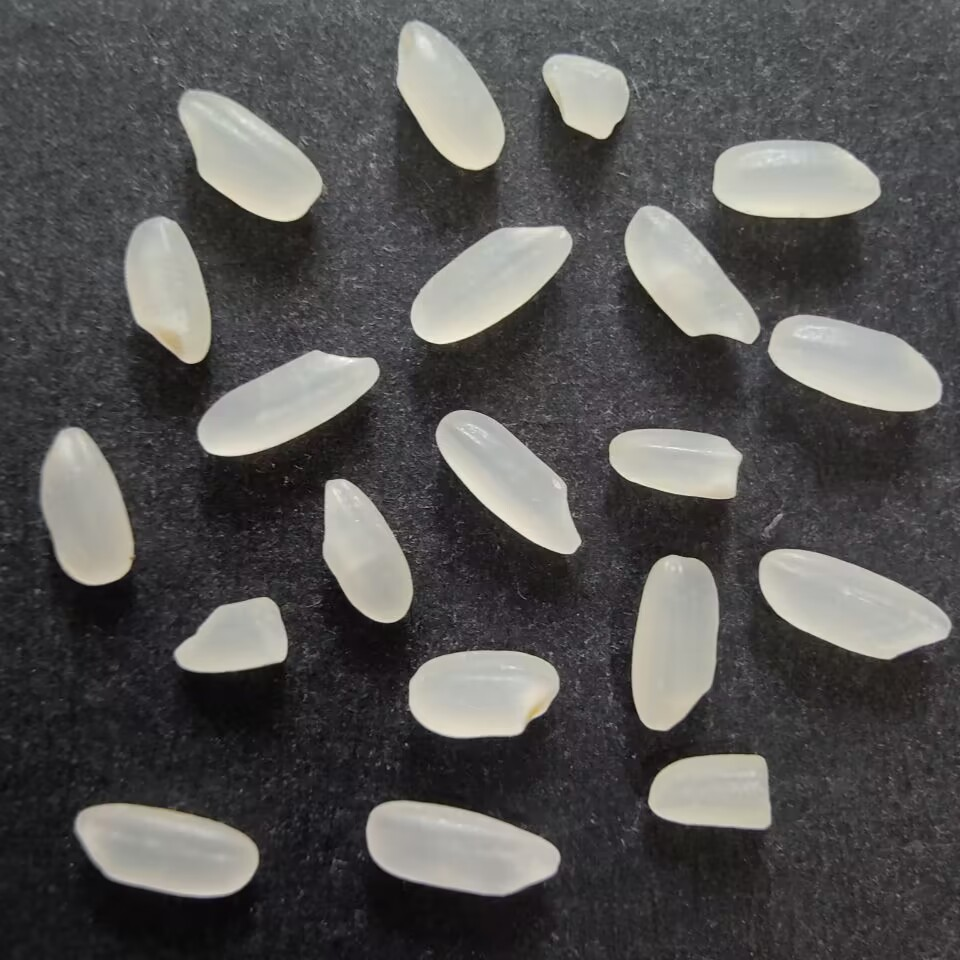broken: (602, 426, 747, 504), (168, 591, 291, 680), (644, 752, 779, 833), (538, 52, 632, 146)
rice: (754, 547, 955, 665), (431, 407, 586, 557), (172, 86, 328, 227), (192, 346, 381, 460), (620, 200, 763, 348), (408, 221, 574, 348), (363, 798, 567, 898), (66, 798, 264, 900), (766, 310, 947, 416), (626, 551, 727, 737), (392, 19, 510, 176), (32, 424, 135, 589), (400, 646, 565, 744), (706, 137, 886, 222), (316, 476, 415, 626), (123, 212, 213, 365)
